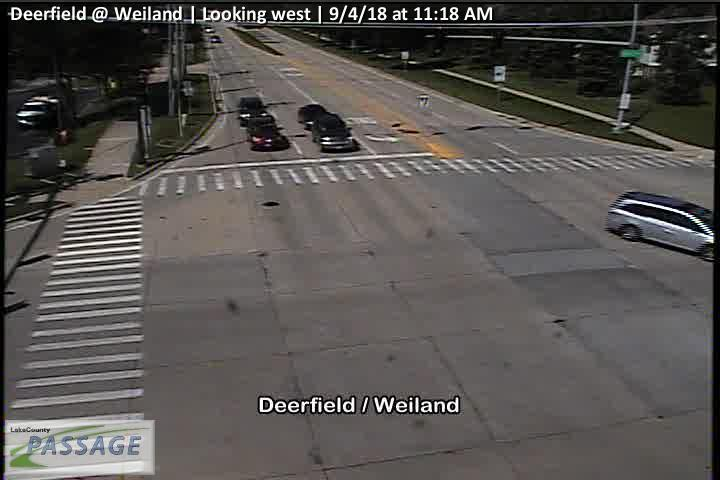SUV: (608, 190, 720, 262), (312, 114, 356, 152), (247, 114, 283, 149), (239, 97, 268, 127)
Sedan: (298, 104, 330, 131)
